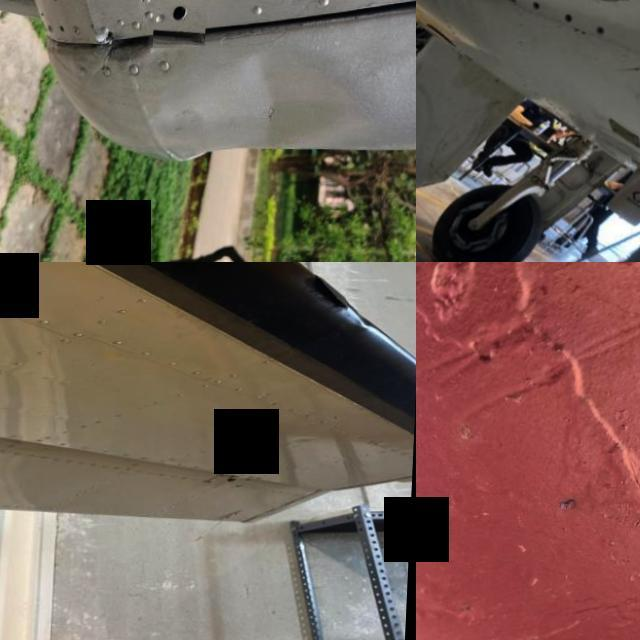Dent: (348, 313, 382, 335)
Missing_Fastener: (155, 0, 209, 50), (566, 16, 578, 24), (535, 3, 543, 11), (600, 29, 608, 36)
